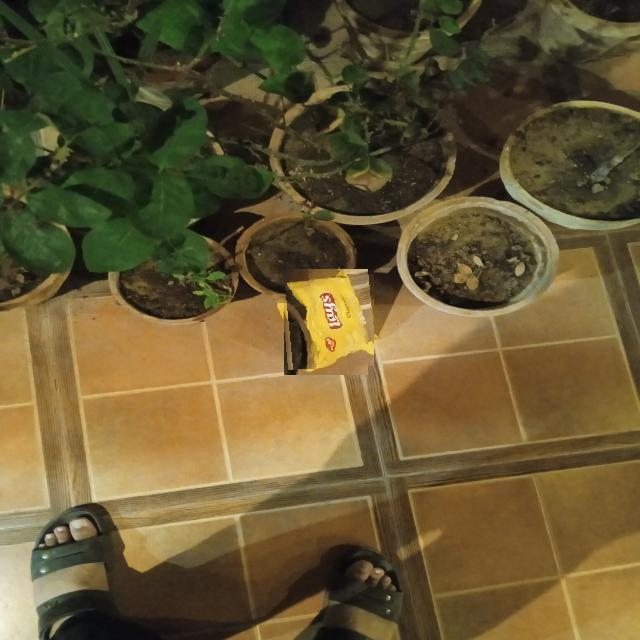Plastic: (279, 274, 374, 370)
